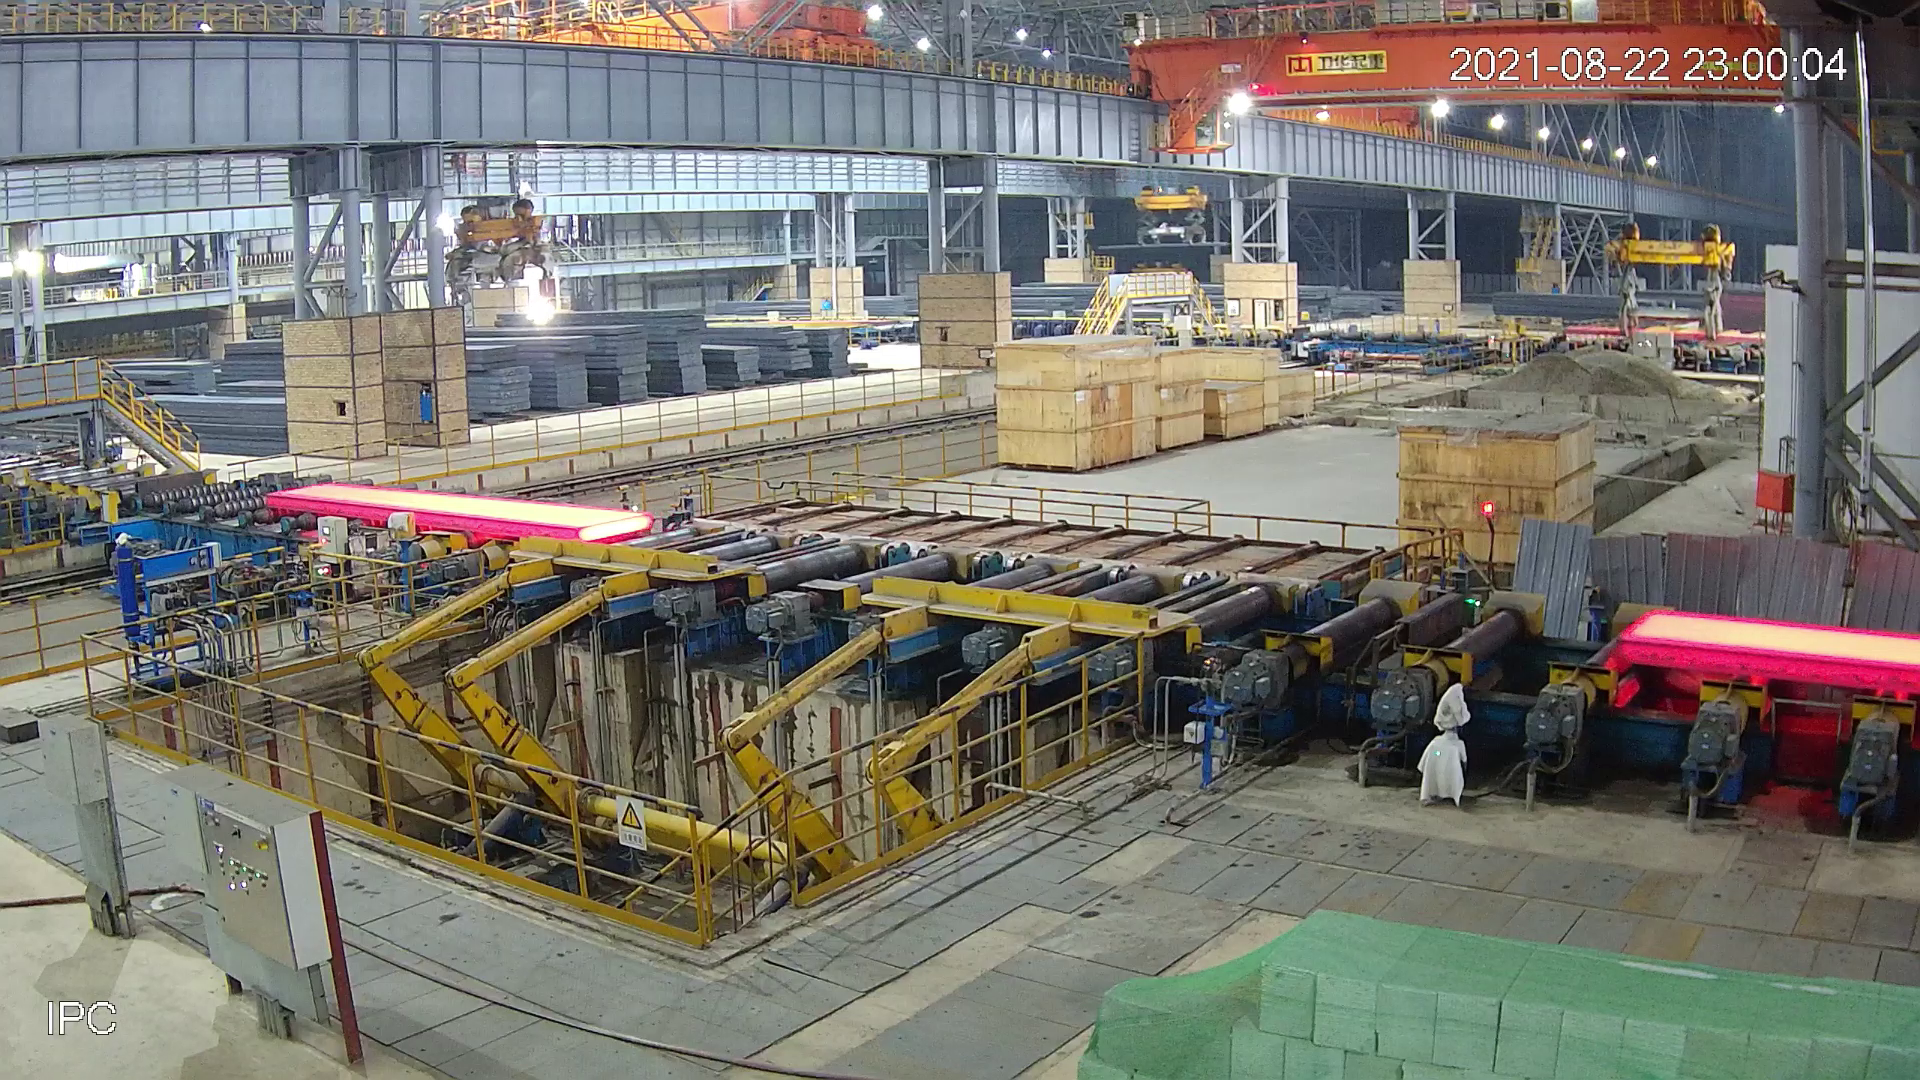slab: (1619, 609, 1919, 694), (266, 483, 651, 541)
